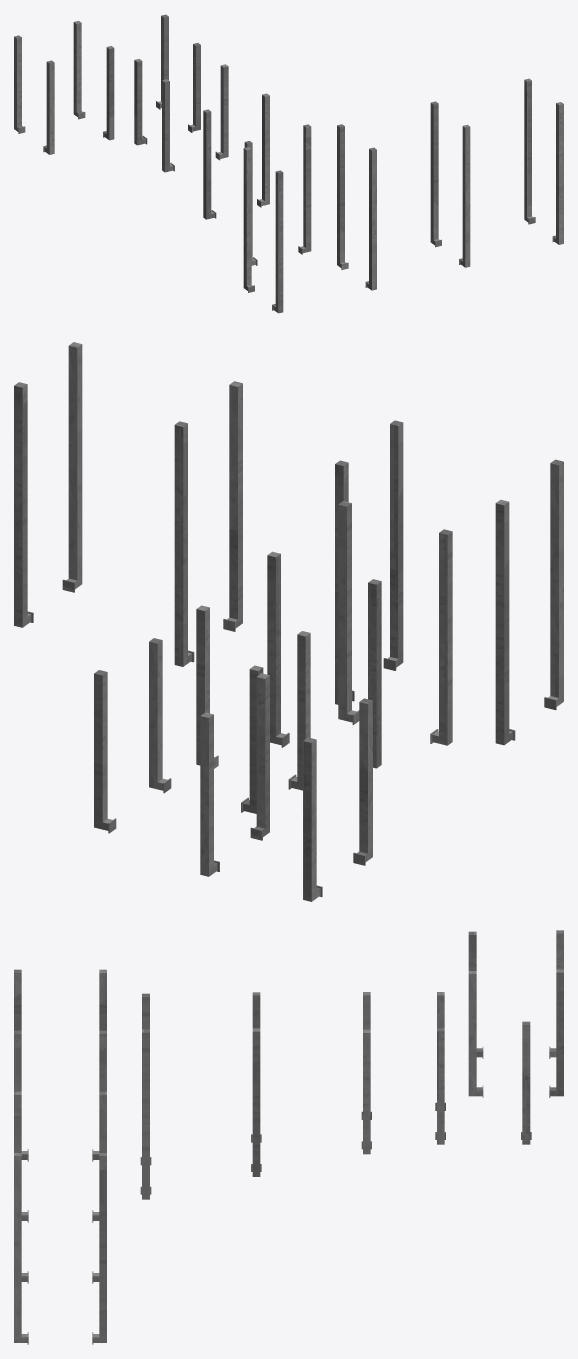
The model's file is metal_bar.fbx.
3 renders of one model, top to bottom at view 1: azimuth 30°, elevation 25°; view 2: azimuth 150°, elevation 25°; view 3: azimuth 270°, elevation 25°, orthographic. The views are drawn at different scales.
Visible parts, largest first — view 1: Cube.007, Cube.051, Cube.006, Cube.093, Cube.008, Cube.112, Cube.049, Cube.092, Cube.094, Cube.097, Cube.095, Cube.100 (+8 smaller); view 2: Cube.094, Cube.007, Cube.092, Cube.006, Cube.093, Cube.051, Cube.112, Cube.008, Cube.019, Cube.095, Cube.015, Cube.099 (+9 smaller); view 3: Cube.094, Cube.112, Cube.008, Cube.095, Cube.099, Cube.020, Cube.100, Cube.096, Cube.021, Cube.006, Cube.007, Cube.092 (+3 smaller).
Part boxes in pixels (x1,y1,x2,y2): Cube.007: (243, 147, 254, 292); Cube.051: (430, 101, 441, 247); Cube.006: (272, 170, 283, 313); Cube.093: (459, 124, 470, 267); Cube.008: (298, 124, 311, 254); Cube.112: (524, 78, 535, 224); Cube.049: (337, 124, 348, 269); Cube.092: (365, 147, 376, 290); Cube.094: (552, 102, 563, 244); Cube.097: (203, 109, 216, 219); Cube.095: (257, 93, 269, 207); Cube.100: (73, 20, 85, 119); Cube.094: (62, 342, 82, 592); Cube.007: (495, 499, 515, 745); Cube.092: (383, 420, 403, 670); Cube.006: (544, 459, 563, 709); Cube.093: (223, 381, 242, 631); Cube.051: (174, 421, 194, 666); Cube.112: (14, 382, 33, 627); Cube.008: (338, 501, 359, 724); Cube.019: (430, 529, 452, 745); Cube.095: (267, 551, 289, 747); Cube.015: (353, 698, 372, 865); Cube.099: (250, 673, 269, 840); Cube.094: (14, 1153, 28, 1344); Cube.112: (92, 1153, 106, 1344); Cube.008: (140, 1029, 151, 1199); Cube.095: (251, 1028, 261, 1176); Cube.099: (468, 971, 483, 1097); Cube.020: (521, 1021, 531, 1144); Cube.100: (549, 969, 563, 1097); Cube.096: (361, 1029, 371, 1154); Cube.021: (435, 1028, 445, 1144); Cube.006: (14, 969, 28, 1161); Cube.007: (92, 969, 106, 1161); Cube.092: (14, 1030, 28, 1222).
Size of the model in its own units: 13777 by 5381 by 14179.
1 material, 1 textured.
